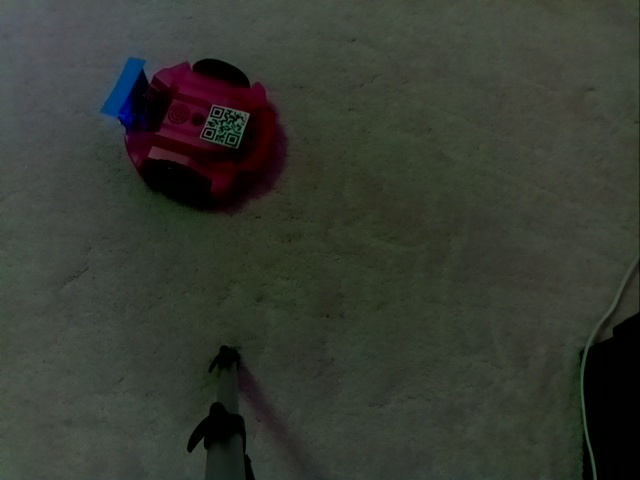board: (93, 48, 148, 125)
chassis: (92, 45, 286, 211)
